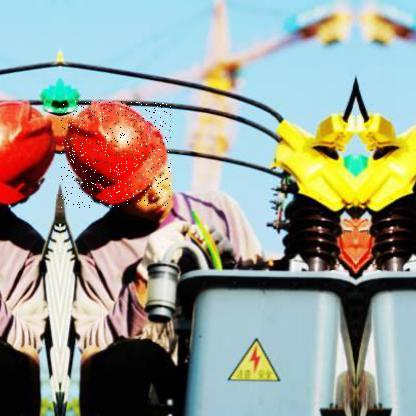safetyhelmet: (61, 101, 172, 209)
